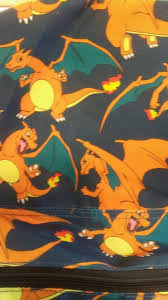charizard: (1, 30, 122, 120), (76, 132, 168, 207), (1, 122, 79, 199), (73, 208, 168, 261)
